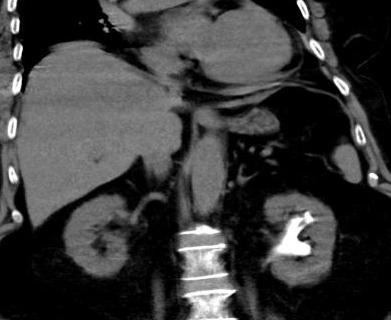Tas_Var: (276, 215, 314, 260), (303, 208, 316, 224)
